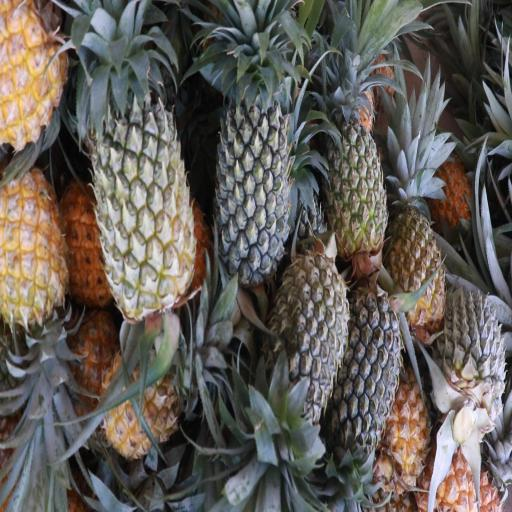------------------------------: (84, 58, 196, 310), (324, 94, 387, 252)
Pineapple - v8 v1: (101, 323, 204, 459), (0, 172, 70, 369), (0, 0, 67, 147), (386, 157, 444, 317)
